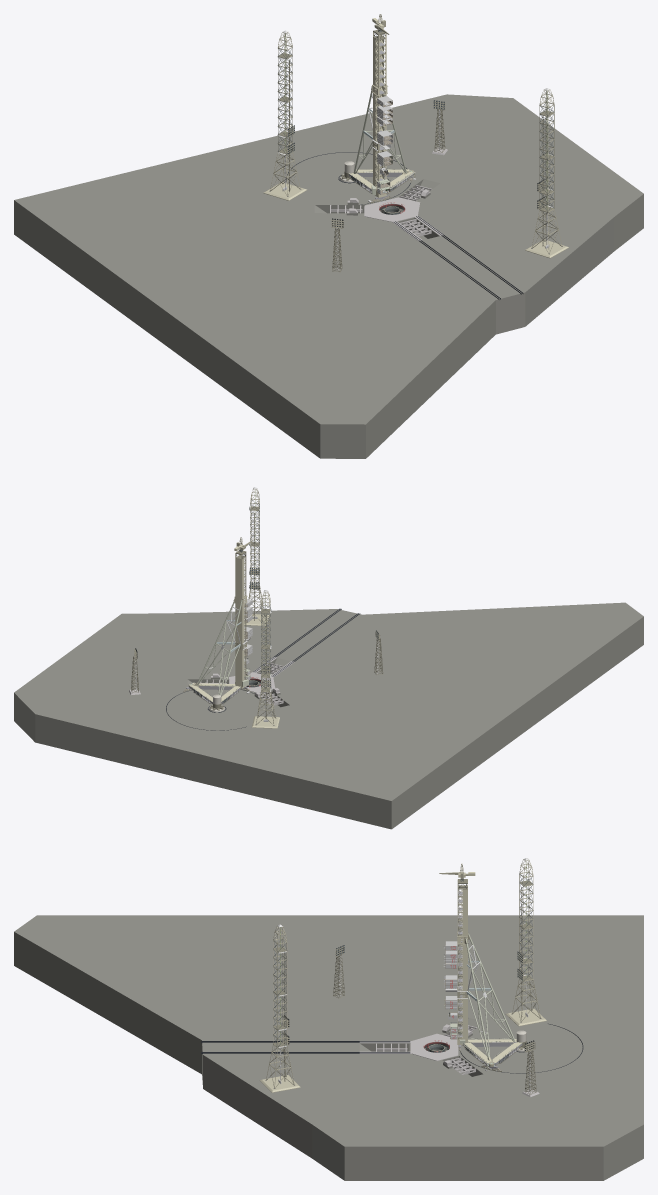
The model's file is N-1 5L_Detalising_Done.fbx.
3 renders of one model, top to bottom at view 1: azimuth 30°, elevation 25°; view 2: azimuth 150°, elevation 25°; view 3: azimuth 270°, elevation 25°, orthographic. The views are drawn at different scales.
Parts seen in each view (by area): view 1: Площадка, Cube.115, Cube.027, Cylinder.041, Plane, Рельсы подьездные.001, Cube.007; view 2: Площадка, Cube.007, Cube.027, Cube.115, Cube.038; view 3: Площадка, Cube.115, Cube.027, Cube.007, Cylinder.041, Рельсы подьездные.001, Plane.
Boxes of the visible parts, <box> form: Площадка: <box>14,94,643,458</box>; Cube.115: <box>539,101,554,211</box>; Cube.027: <box>277,44,292,154</box>; Cylinder.041: <box>364,197,420,221</box>; Plane: <box>375,37,385,190</box>; Рельсы подьездные.001: <box>394,216,523,299</box>; Cube.007: <box>373,37,383,186</box>; Площадка: <box>14,602,643,829</box>; Cube.007: <box>236,558,244,684</box>; Cube.027: <box>261,601,270,691</box>; Cube.115: <box>250,499,259,588</box>; Cube.038: <box>235,552,242,688</box>; Площадка: <box>14,915,643,1180</box>; Cube.115: <box>273,938,287,1047</box>; Cube.027: <box>519,872,533,980</box>; Cube.007: <box>462,889,467,1039</box>; Cylinder.041: <box>410,1033,458,1060</box>; Рельсы подьездные.001: <box>201,1041,410,1053</box>; Plane: <box>458,889,467,1039</box>.
Size of the model in its own units: 8345 by 3668 by 9595.
